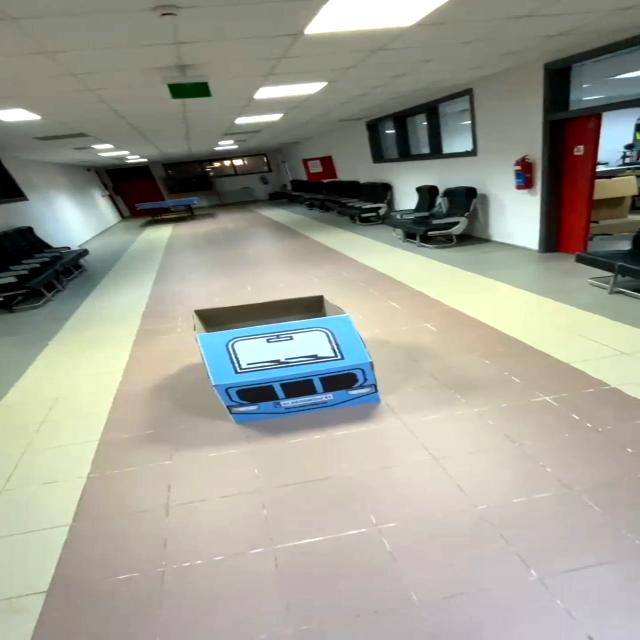blue_car: (156, 283, 451, 434)
